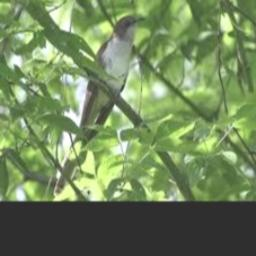Cuckoo: (53, 15, 144, 198)
